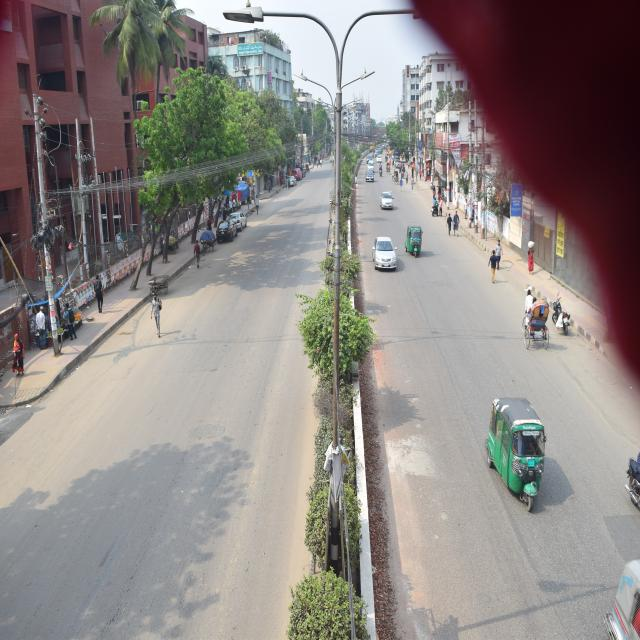car: (368, 226, 398, 274), (214, 216, 240, 250), (226, 207, 246, 228), (379, 190, 399, 210), (365, 167, 375, 186), (366, 156, 376, 168)
motorbike: (548, 293, 576, 334), (428, 203, 444, 218)
